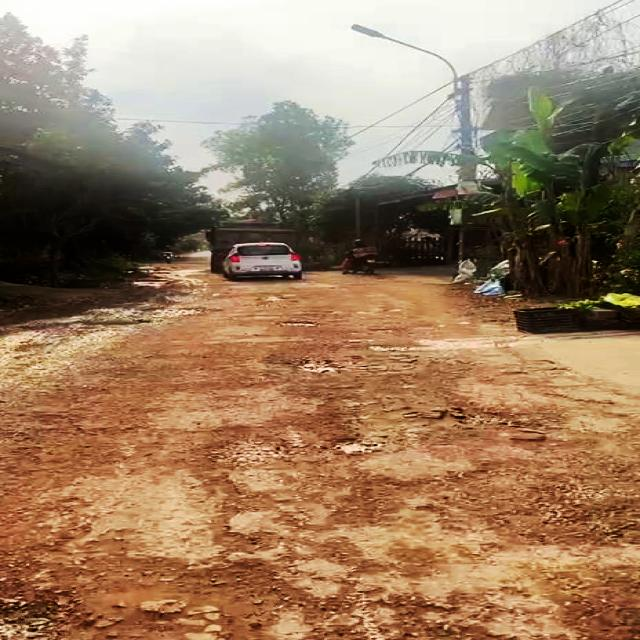pothole: (0, 562, 364, 640), (190, 419, 322, 472), (474, 408, 600, 458), (320, 436, 393, 455), (295, 359, 345, 375), (273, 321, 323, 328)
